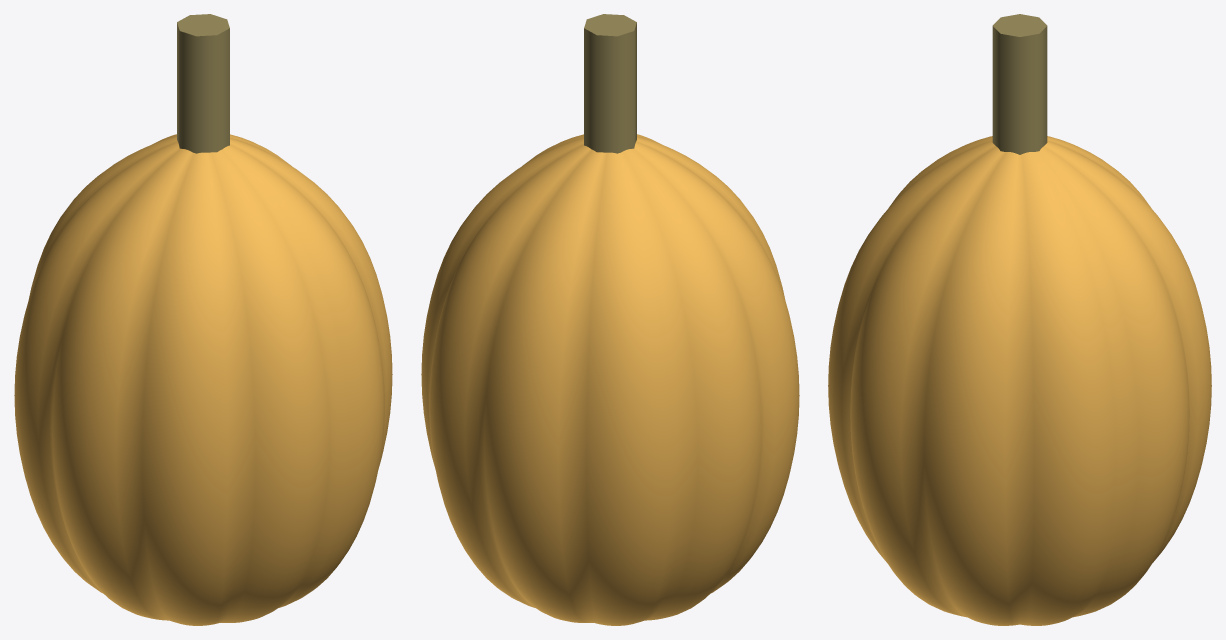
File: pumpkin_small.glb
3 views of the same model, side by side, from view 1: azimuth 30°, elevation 25°; view 2: azimuth 150°, elevation 25°; view 3: azimuth 270°, elevation 25° (orthographic).
Parts seen in each view (by area): view 1: Sphere.001, Cylinder.001; view 2: Sphere.001, Cylinder.001; view 3: Sphere.001, Cylinder.001.
Boxes of the visible parts, <box> form: Sphere.001: <box>14,134,392,625</box>; Cylinder.001: <box>177,14,229,153</box>; Sphere.001: <box>421,134,799,625</box>; Cylinder.001: <box>584,14,636,153</box>; Sphere.001: <box>828,136,1211,625</box>; Cylinder.001: <box>992,14,1047,154</box>.
Bounding box in the file's own units: 2.71 × 4.66 × 2.8.
